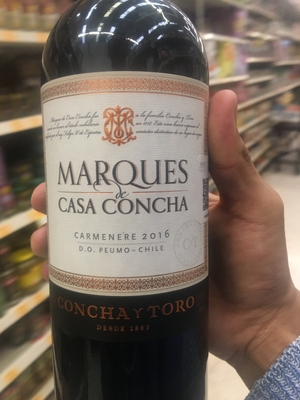marques de casa concha carmenere: (39, 17, 216, 390)
